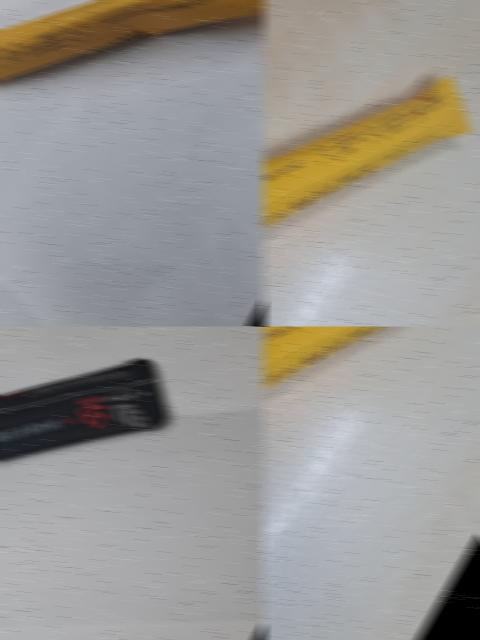KANU: (0, 326, 209, 618)
mix_coffee: (0, 0, 266, 291), (262, 0, 480, 326), (262, 326, 480, 568)
